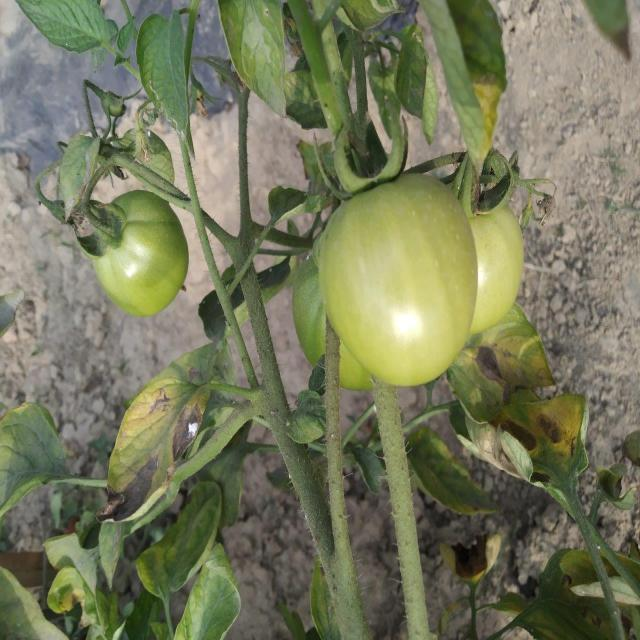Unripe: (318, 167, 474, 387), (93, 192, 189, 314)
